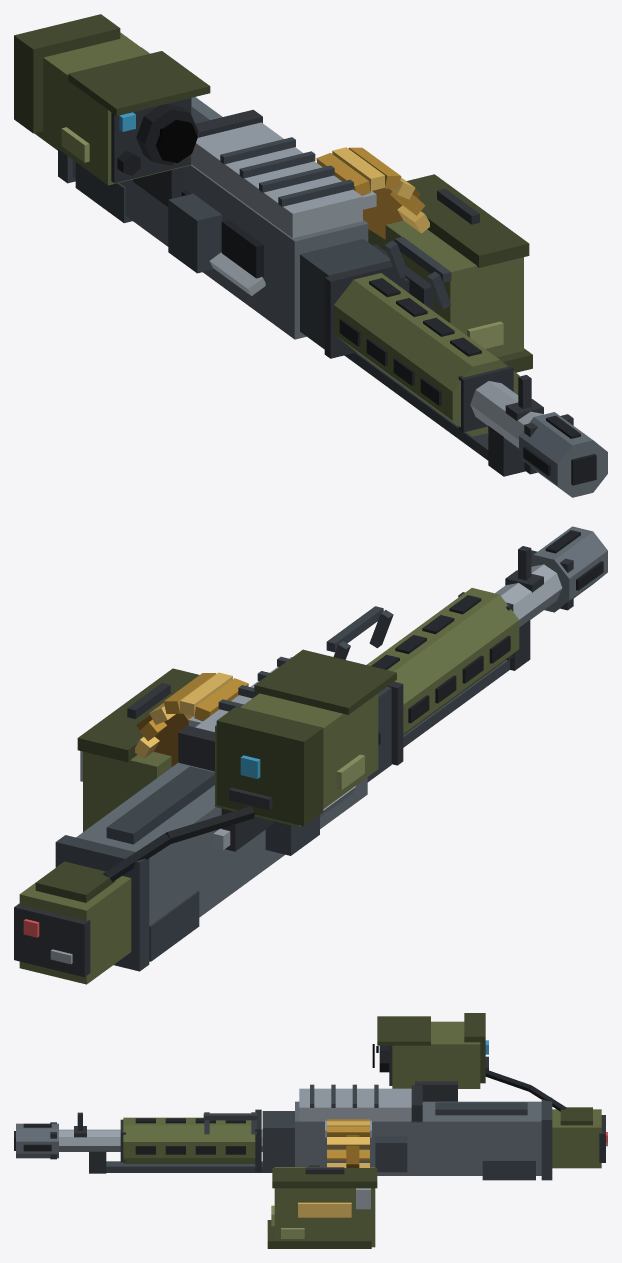
File: dep_doorman_gun.fbx
The picture shows the model from 3 angles, top to bottom: view 1: azimuth 30°, elevation 25°; view 2: azimuth 150°, elevation 25°; view 3: azimuth 270°, elevation 25°; orthographic projection. The views are drawn at different scales.
Parts seen in each view (by area): view 1: dep_doorman_gun; view 2: dep_doorman_gun; view 3: dep_doorman_gun.
Part boxes in pixels (x1,y1,x2,y2): dep_doorman_gun: (14, 14, 607, 497); dep_doorman_gun: (14, 526, 607, 984); dep_doorman_gun: (14, 1013, 607, 1248).
Size of the model in its own units: 195 by 153 by 554.
